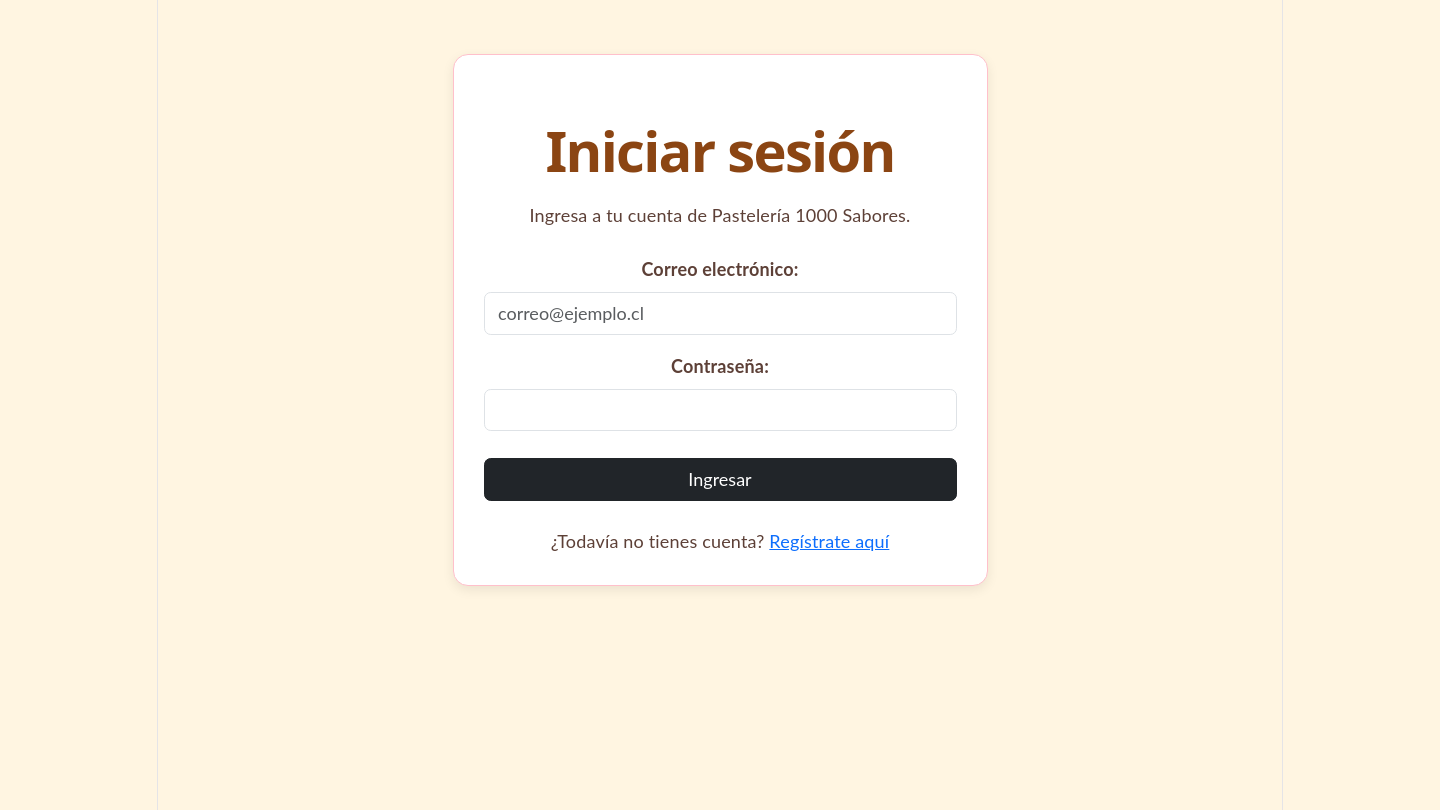
Formulario de inicio de sesión › permite iniciar sesión con credenciales correctas
Type "ana@example.com" into the field with placeholder "correo@ejemplo.cl" at (720, 313), box [484,292,956,335]
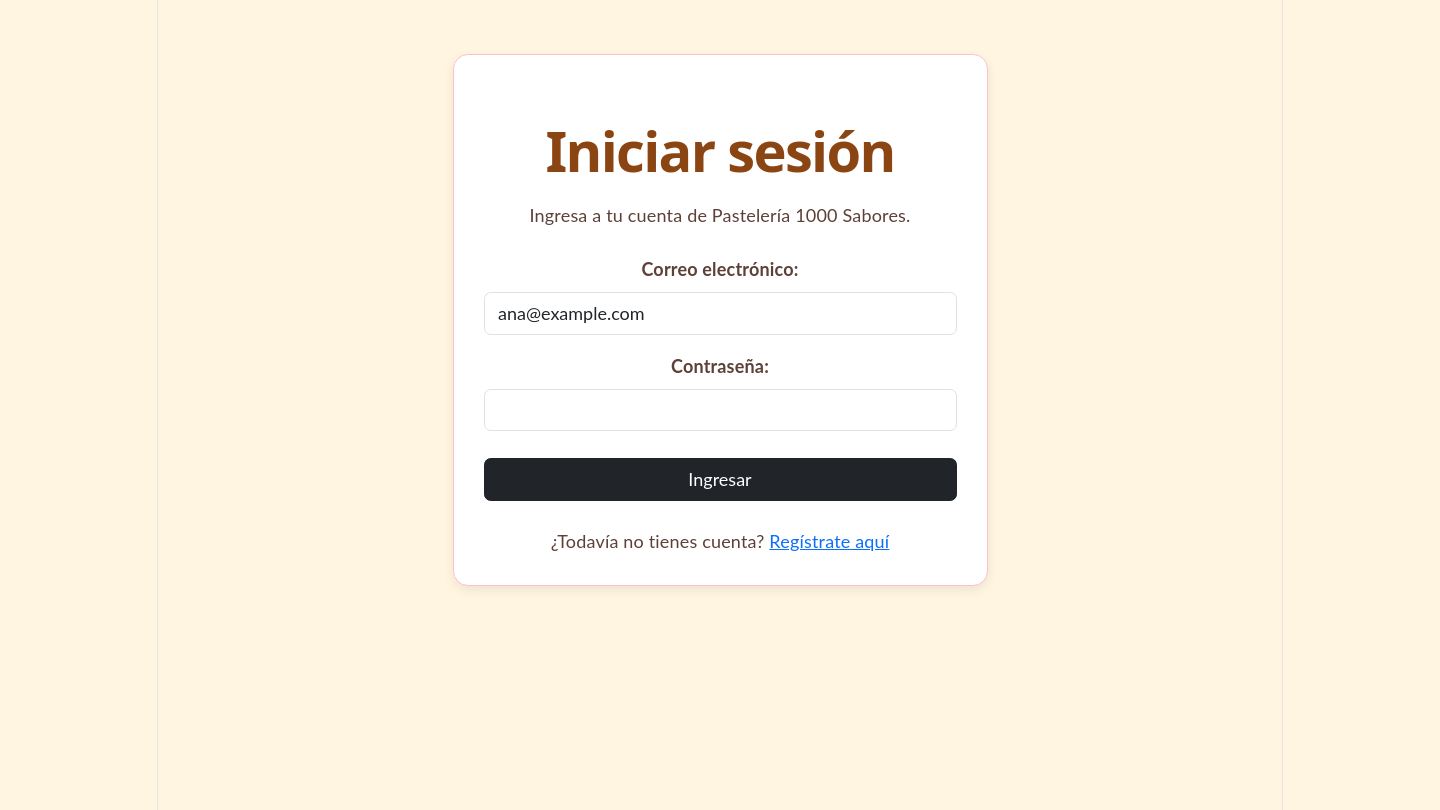
Type "clave123" into the password field labelled "Contraseña:" at (720, 410), box [484,389,956,431]
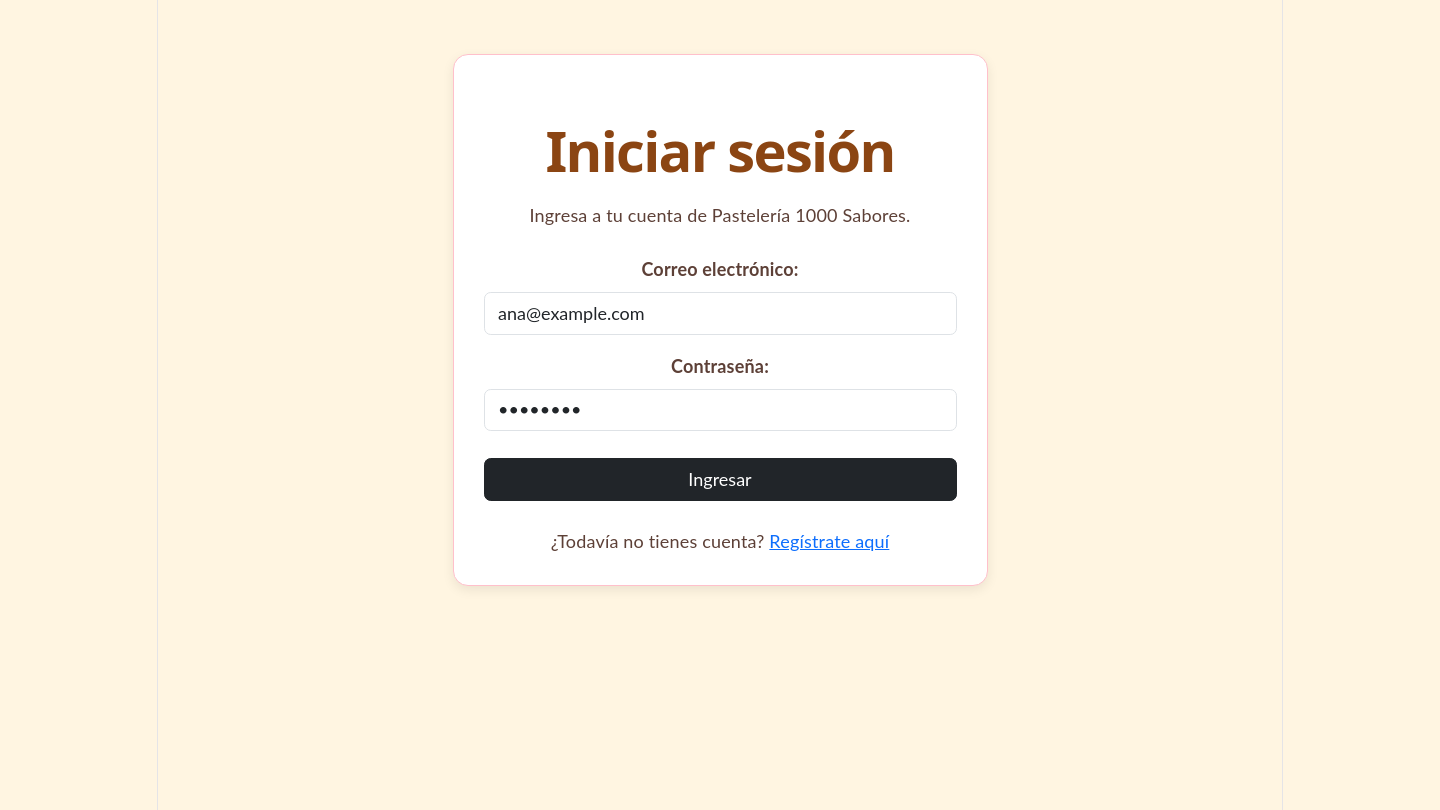
Click the button "Ingresar" at (720, 479), box [484,458,956,501]
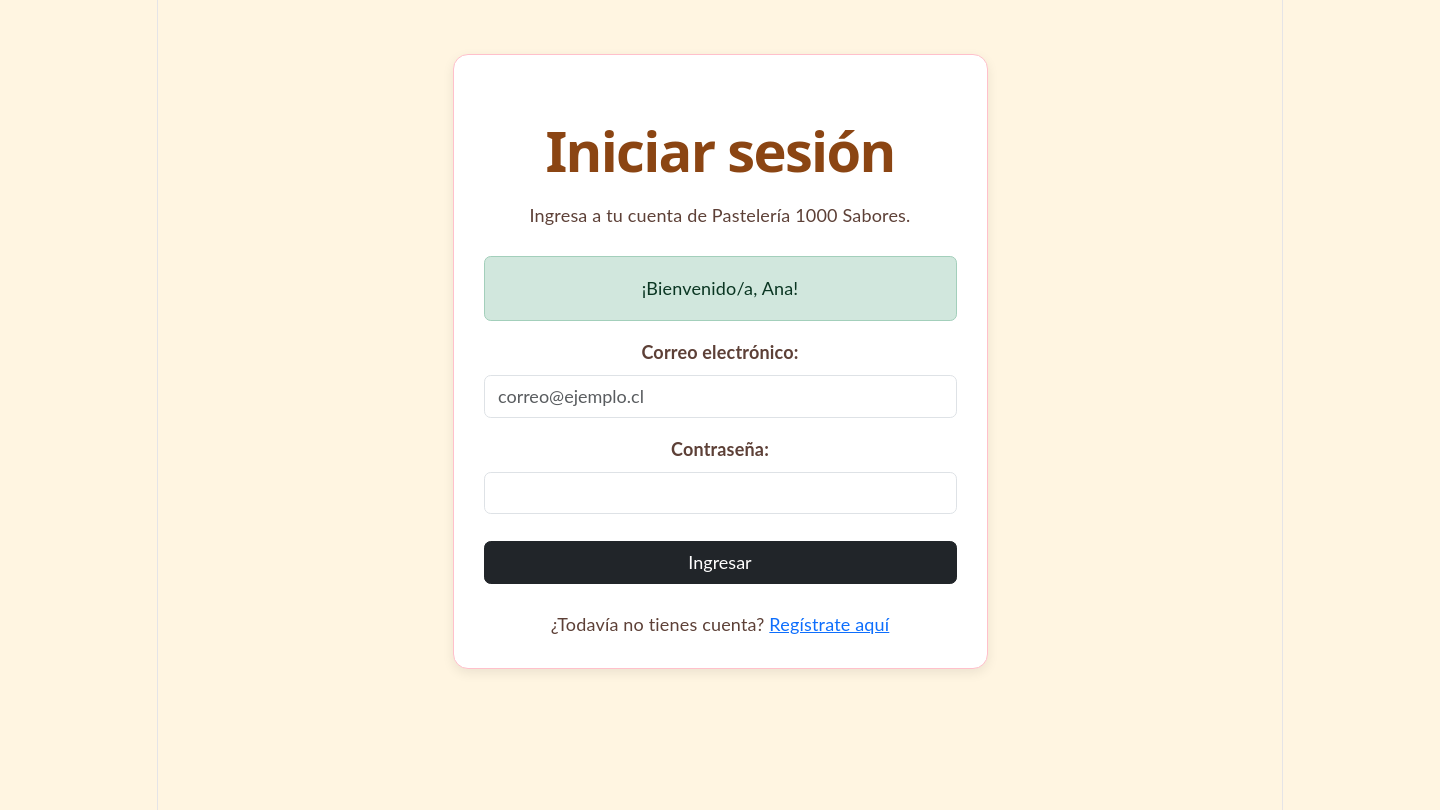
Expected: the text "¡Bienvenido/a, Ana!" is shown, [484,256,956,321]
